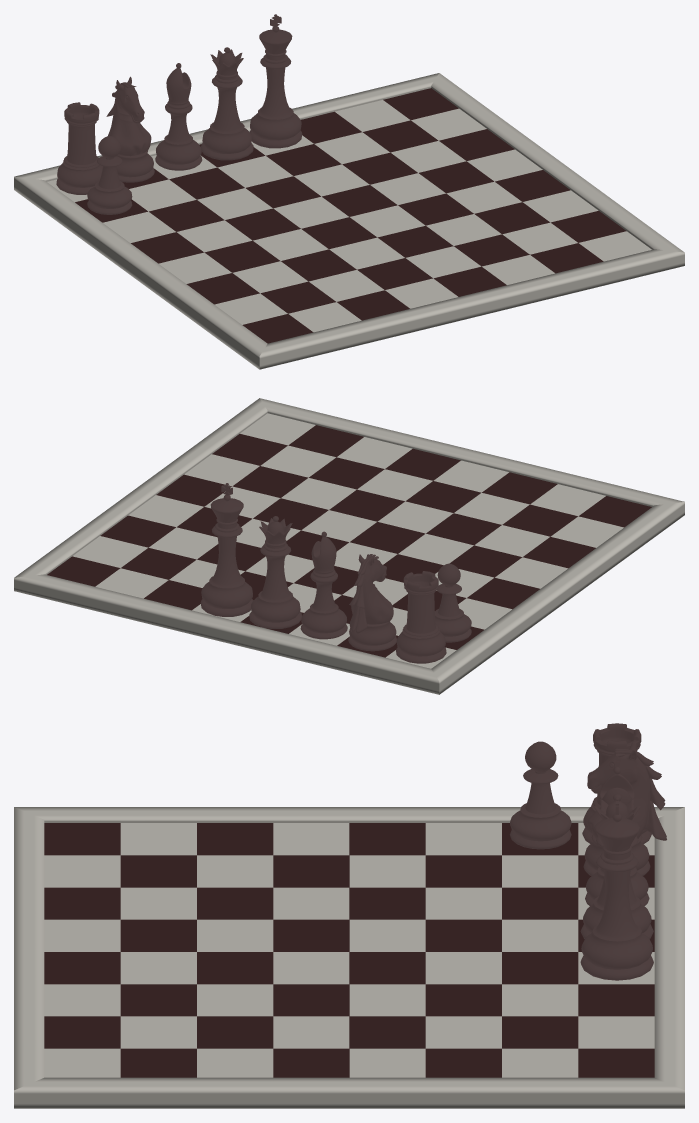
3 renders of one model, top to bottom at view 1: azimuth 30°, elevation 25°; view 2: azimuth 150°, elevation 25°; view 3: azimuth 270°, elevation 25°, orthographic. The views are drawn at different scales.
Visible parts, largest first — view 1: board_pattern, board, board_border, king_b, queen_b, knight_bl, rook_bl, bishop_bl, pawn_b; view 2: board_pattern, board, board_border, king_b, queen_b, knight_bl, rook_bl, bishop_bl, pawn_b; view 3: board_pattern, board, board_border, king_b, knight_bl, pawn_b, queen_b, bishop_bl, rook_bl.
Part boxes in pixels (<box>): board_pattern: <box>75,88,626,343</box>; board: <box>47,100,651,332</box>; board_border: <box>14,73,684,369</box>; king_b: <box>249,14,302,148</box>; queen_b: <box>201,47,253,160</box>; knight_bl: <box>106,76,154,182</box>; rook_bl: <box>56,102,102,194</box>; bishop_bl: <box>155,63,202,170</box>; pawn_b: <box>87,136,132,214</box>; board_pattern: <box>47,425,651,657</box>; board: <box>72,413,623,668</box>; board_border: <box>14,398,684,694</box>; king_b: <box>200,483,252,616</box>; queen_b: <box>249,516,301,628</box>; knight_bl: <box>348,554,396,651</box>; rook_bl: <box>396,571,446,663</box>; bishop_bl: <box>300,531,347,639</box>; pawn_b: <box>435,563,471,642</box>; board_pattern: <box>44,823,654,1077</box>; board: <box>44,823,654,1077</box>; board_border: <box>14,807,684,1108</box>; king_b: <box>580,797,653,980</box>; knight_bl: <box>583,741,666,875</box>; pawn_b: <box>510,741,571,849</box>; queen_b: <box>580,794,653,938</box>; bishop_bl: <box>585,766,649,906</box>; rook_bl: <box>582,723,651,843</box>.
Bounding box in the file's own units: 17.54 × 5.35 × 17.54.
